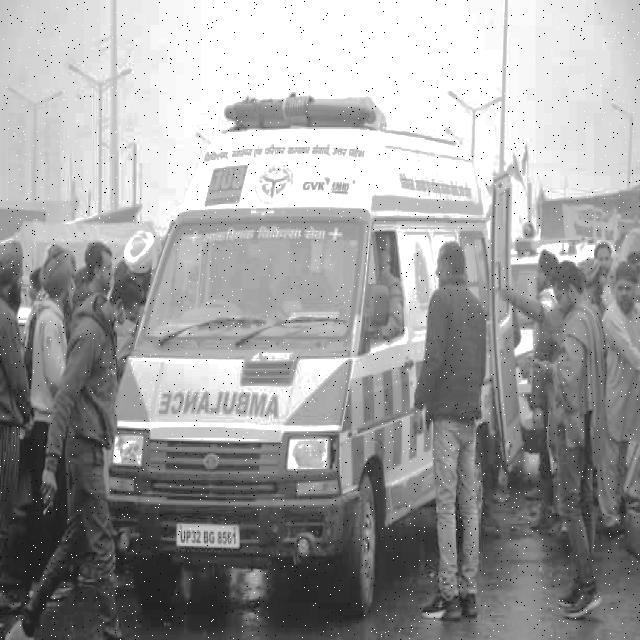Ambulance: (202, 84, 384, 187), (142, 366, 292, 446)
